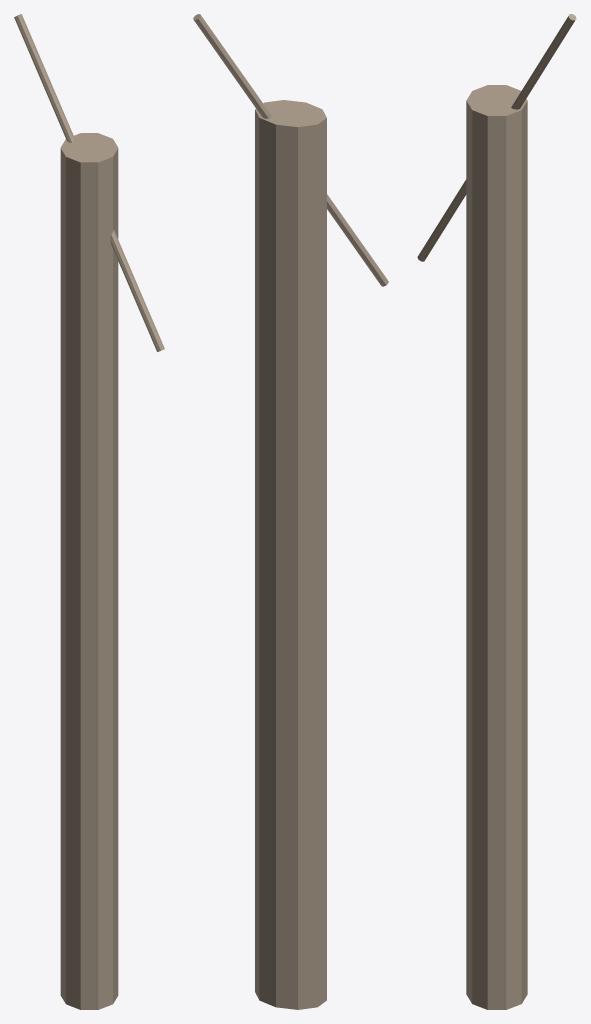
File: TREE_EUCALYPTUS_001_LOD_DISTANT_SILHOUETTE.glb
3 renders of one model, left to right at view 1: azimuth 90°, elevation 25°; view 2: azimuth 150°, elevation 25°; view 3: azimuth 270°, elevation 25°, orthographic. The views are drawn at different scales.
Visible parts, largest first — view 1: TREE_TRUNK_EUCALYPTUS_001_LOD3_EXPORT, TREE_BRANCH_LARGE_001_LOD3_EXPORT; view 2: TREE_TRUNK_EUCALYPTUS_001_LOD3_EXPORT, TREE_BRANCH_LARGE_001_LOD3_EXPORT; view 3: TREE_TRUNK_EUCALYPTUS_001_LOD3_EXPORT, TREE_BRANCH_LARGE_001_LOD3_EXPORT.
Part boxes in pixels (left/top/right/bottom): TREE_TRUNK_EUCALYPTUS_001_LOD3_EXPORT: left=60, top=133, right=118, bottom=1009; TREE_BRANCH_LARGE_001_LOD3_EXPORT: left=14, top=14, right=164, bottom=351; TREE_TRUNK_EUCALYPTUS_001_LOD3_EXPORT: left=255, top=100, right=326, bottom=1009; TREE_BRANCH_LARGE_001_LOD3_EXPORT: left=193, top=14, right=388, bottom=286; TREE_TRUNK_EUCALYPTUS_001_LOD3_EXPORT: left=466, top=85, right=527, bottom=1009; TREE_BRANCH_LARGE_001_LOD3_EXPORT: left=417, top=14, right=576, bottom=261.
Bounding box in the file's own units: 0.343 × 2.7 × 0.3874.
